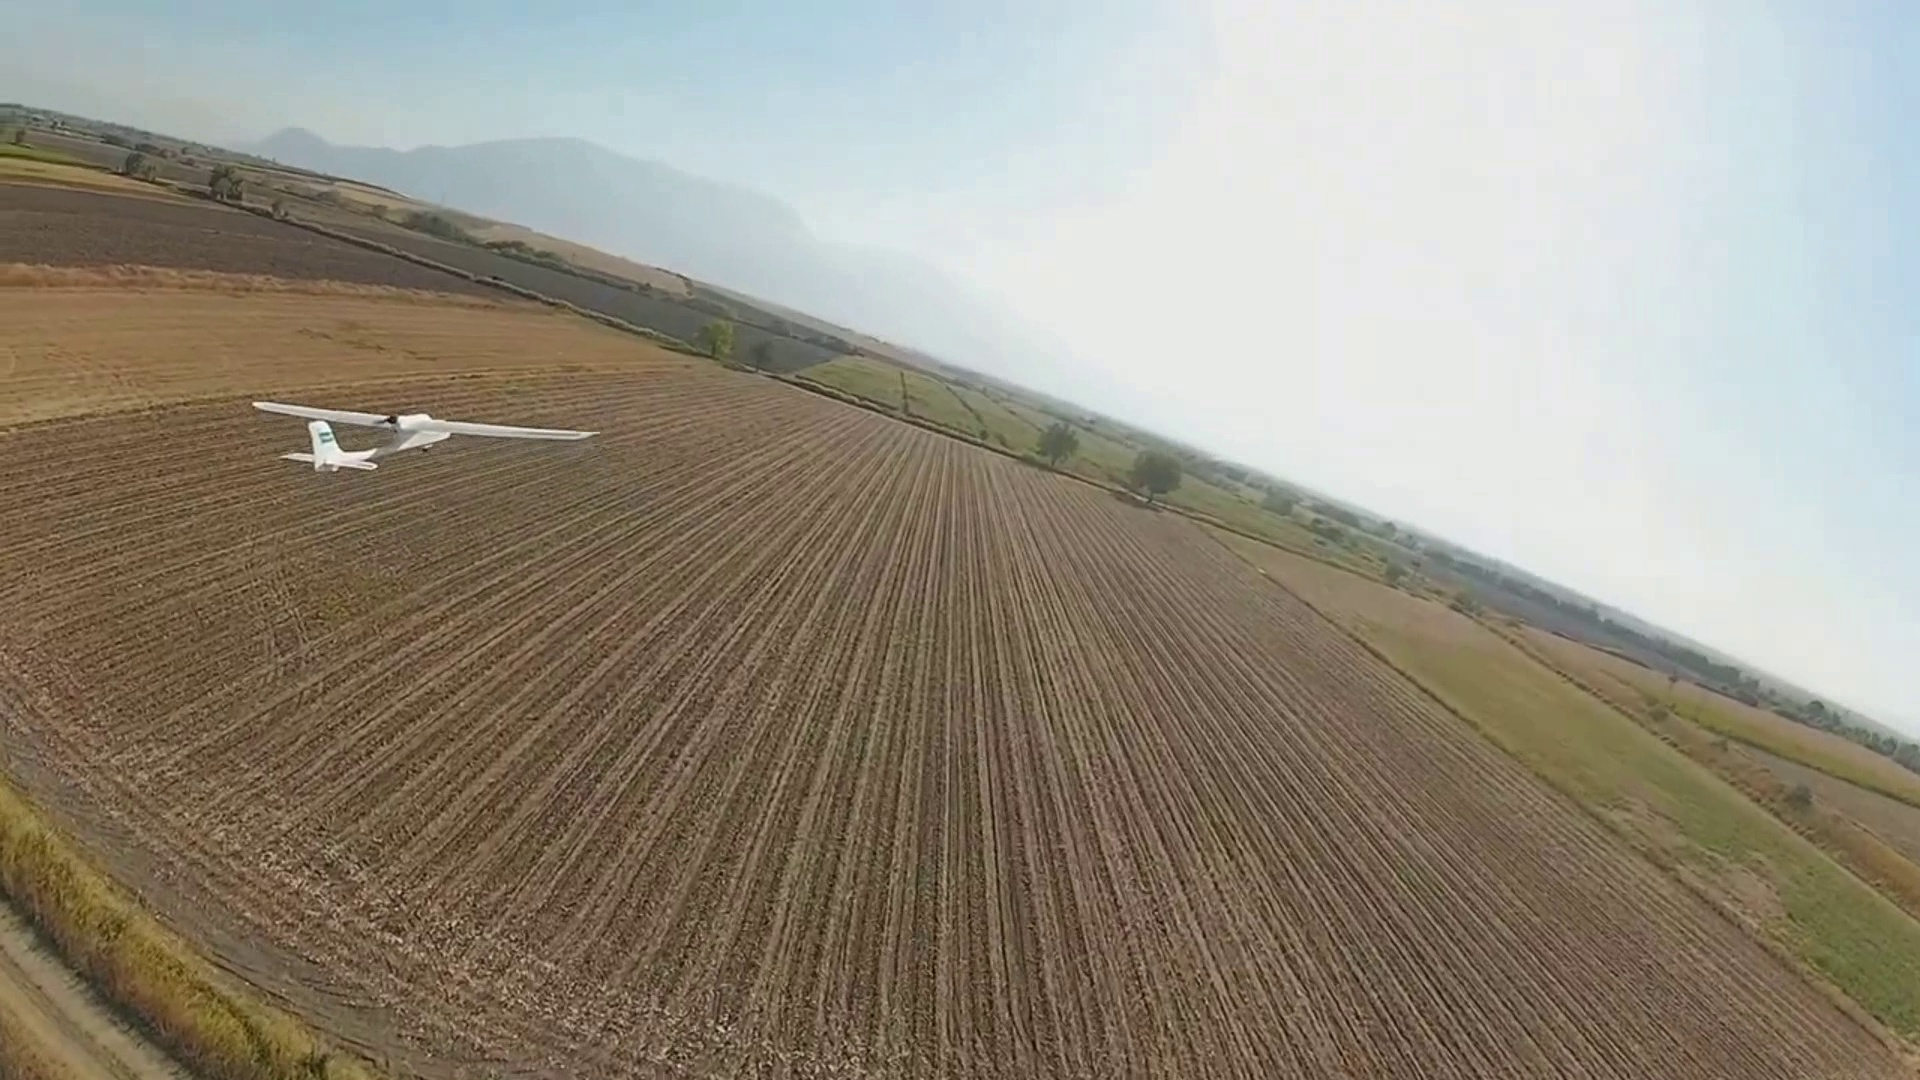airplane: (243, 400, 596, 467), (249, 393, 450, 471)
